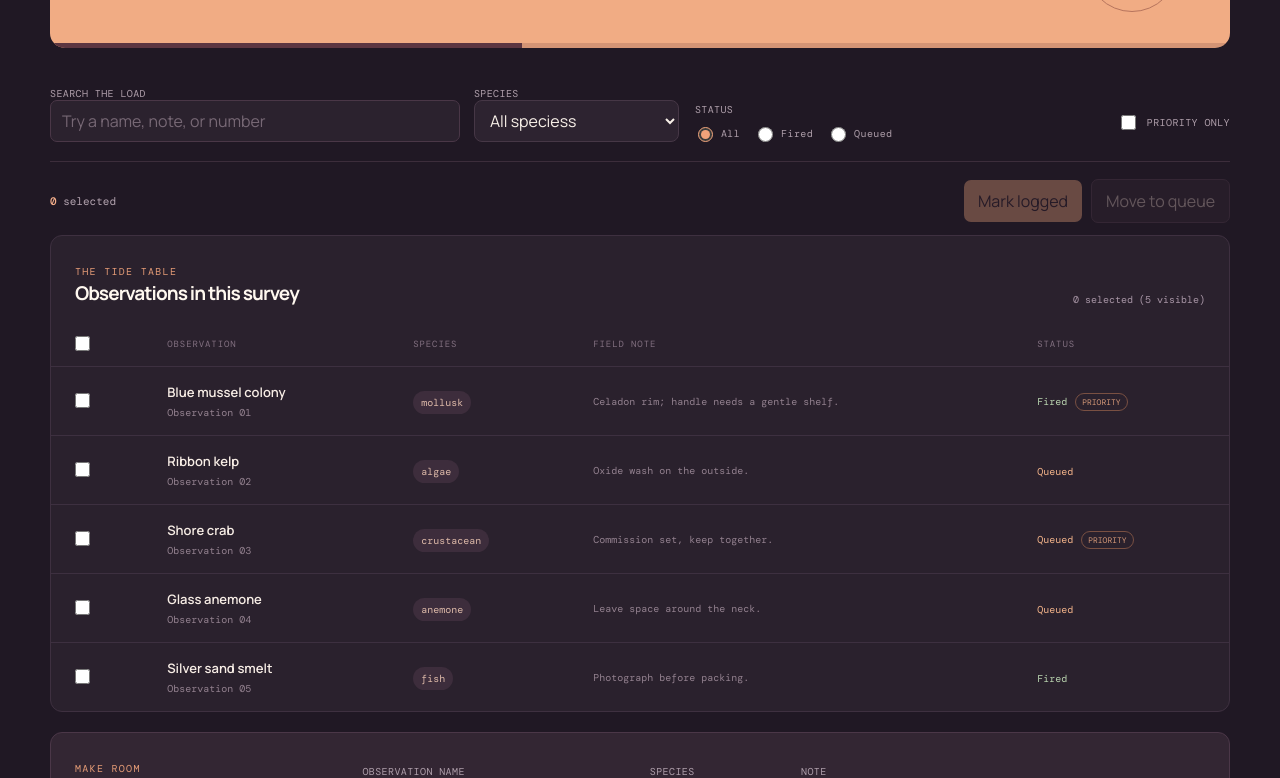
Test case: TideGlyph app › keeps selection when a status filter hides it
(page scrolled)
Click the checkbox named "Select Blue mussel colony": (82, 400) [75,393,90,408]
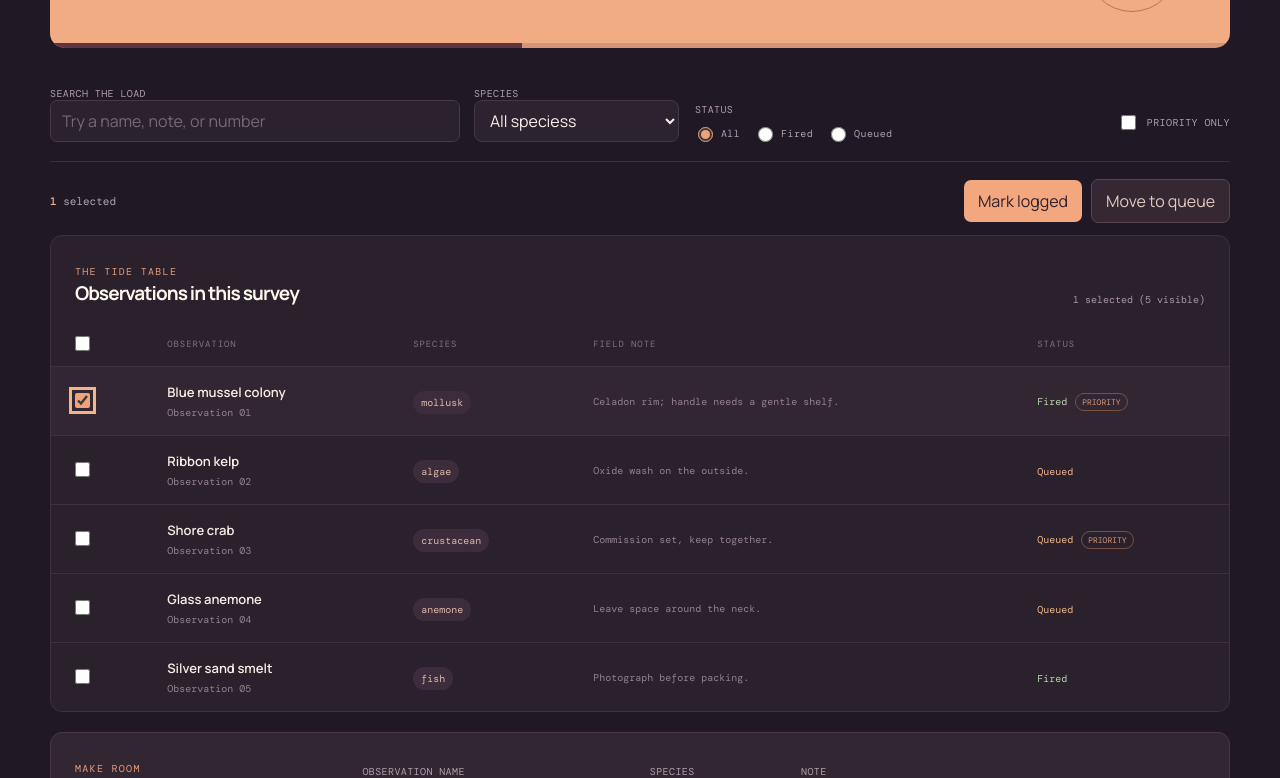
Click the radio button labelled "Queued": (839, 134) [831,127,846,142]
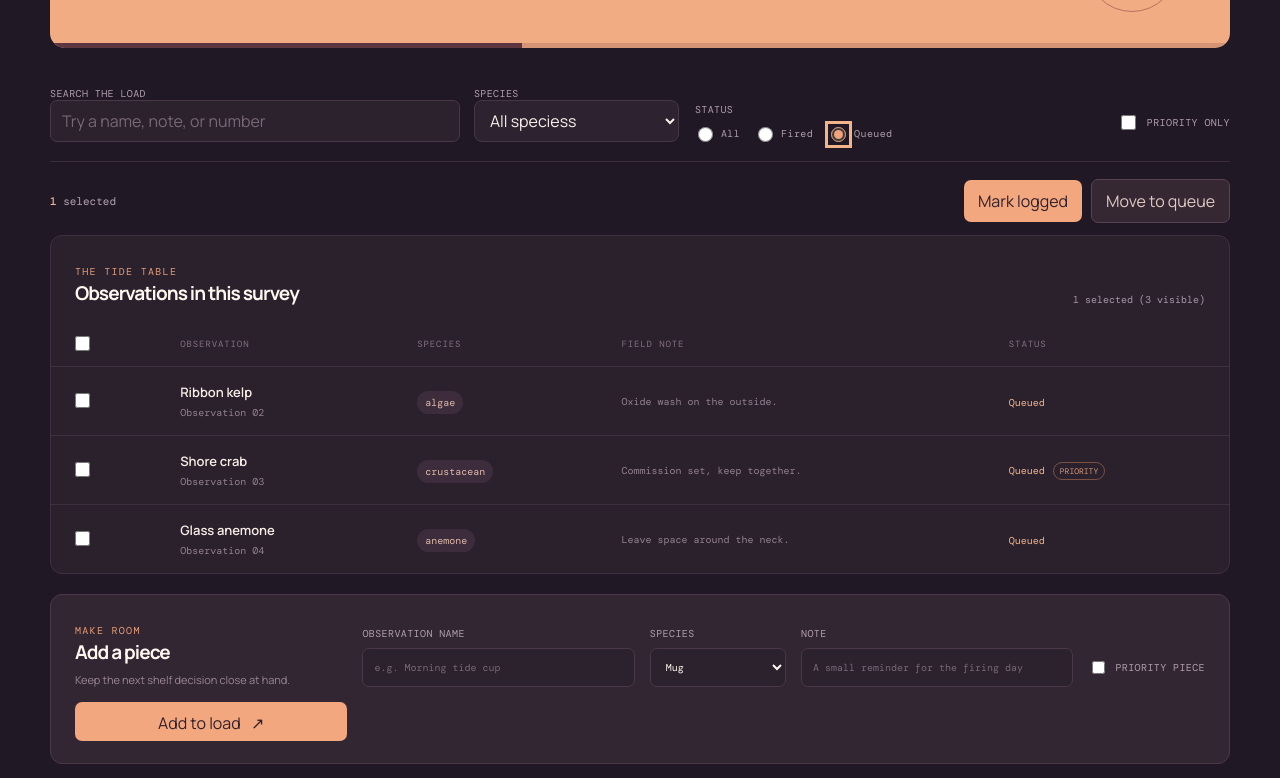
Expected: the text "1 selected (3 visible)" is shown, [1073,293,1205,306]
Click the radio button labelled "All": (705, 134) [698,127,713,142]
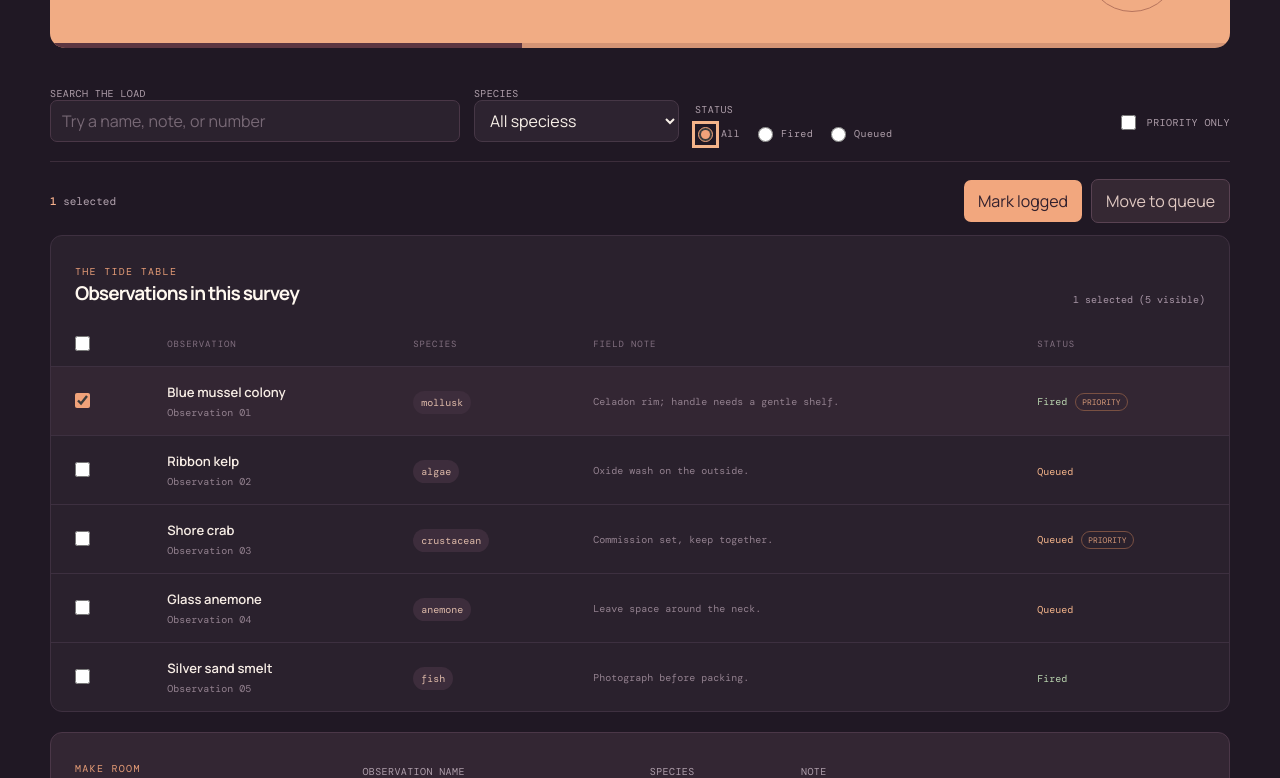
Result: the checkbox named "Select Blue mussel colony" is checked at [75,393,90,408]
